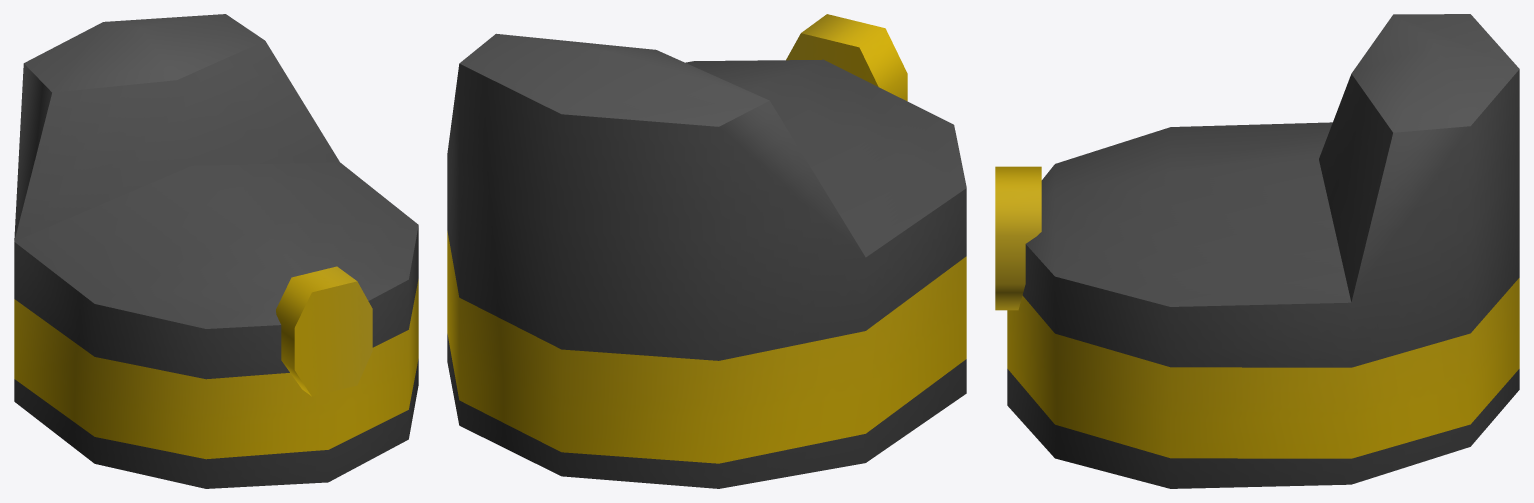
The model's file is I_hat_2_lvl.fbx.
3 renders of one model, left to right at view 1: azimuth 30°, elevation 25°; view 2: azimuth 150°, elevation 25°; view 3: azimuth 270°, elevation 25°, orthographic. The views are drawn at different scales.
Visible parts, largest first — view 1: I_hat_2_lvl; view 2: I_hat_2_lvl; view 3: I_hat_2_lvl.
Part boxes in pixels (x1=…): I_hat_2_lvl: x1=14, y1=14, x2=418, y2=488; I_hat_2_lvl: x1=447, y1=14, x2=966, y2=488; I_hat_2_lvl: x1=995, y1=14, x2=1519, y2=488.
Bounding box in the file's own units: 0.5408 × 0.5078 × 0.6626.
